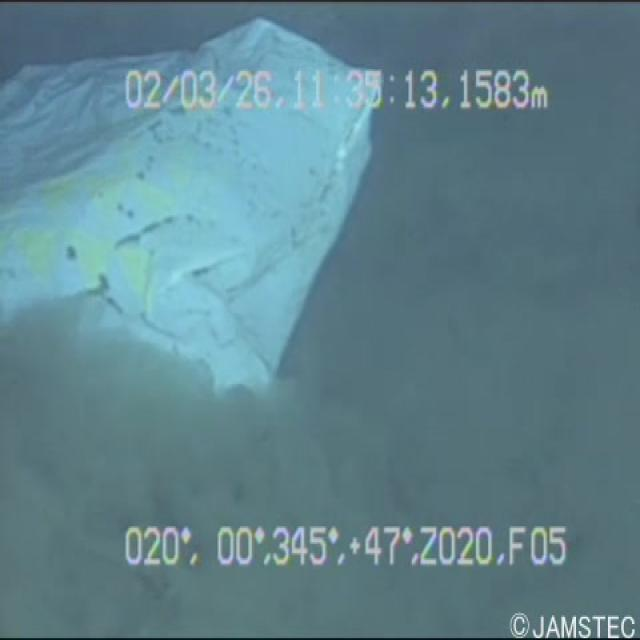plastic: (0, 11, 383, 409)
